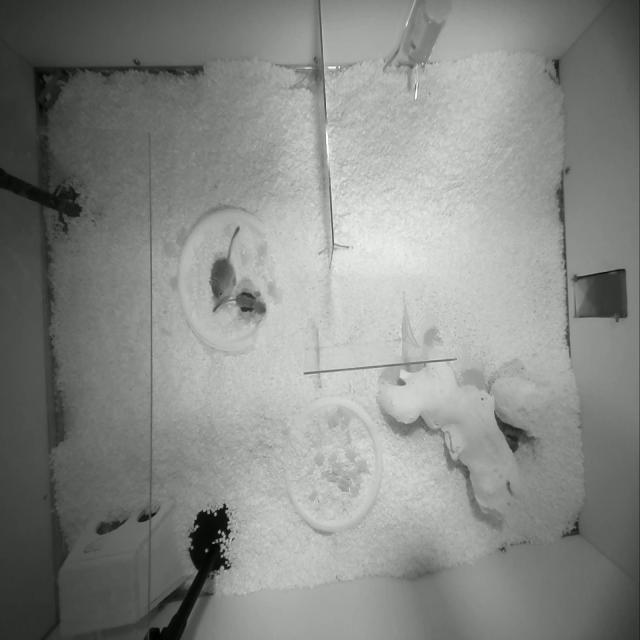pup_fluffy: (210, 226, 239, 298)
pup_h_stripe: (504, 429, 520, 452)
pup_v_stripe: (214, 290, 266, 314)
